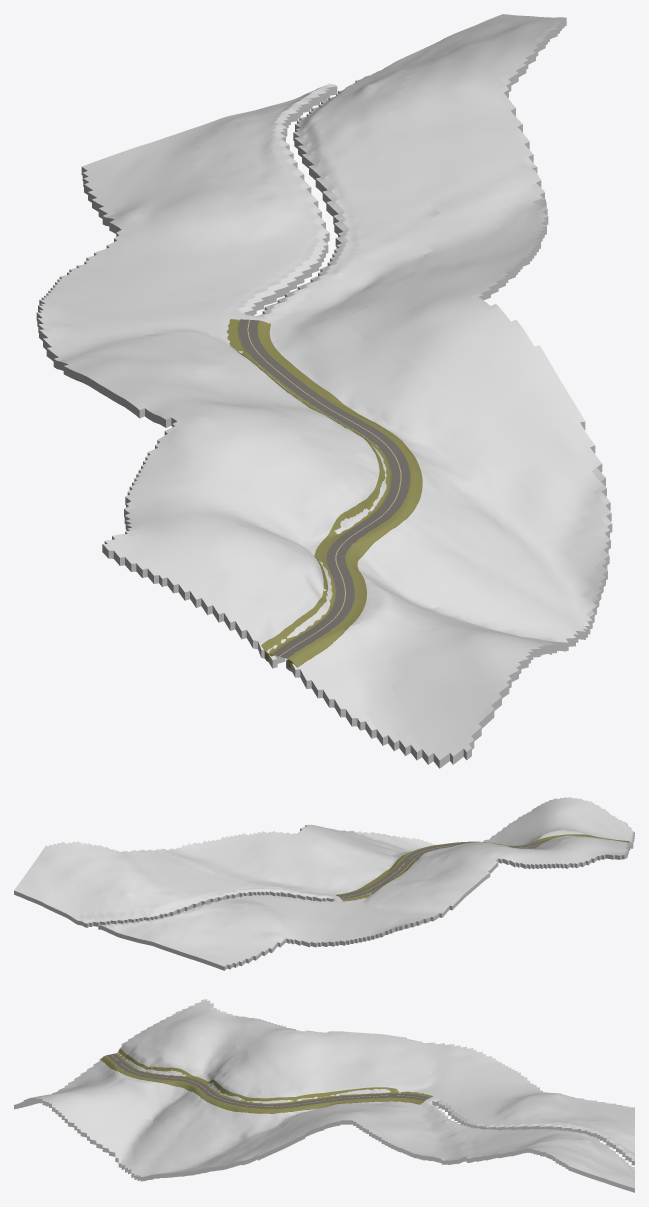
File: conz_191.glb
3 views of the same model, one above another, from view 1: azimuth 30°, elevation 25°; view 2: azimuth 150°, elevation 25°; view 3: azimuth 270°, elevation 25° (orthographic). The views are drawn at different scales.
Visible parts, largest first — view 1: terrain191, road191, verge191R, verge191L; view 2: terrain191, road191, verge191R; view 3: terrain191, road191, verge191R, verge191L.
Part boxes in pixels (<box>): terrain191: <box>36,14,612,768</box>; road191: <box>238,319,410,658</box>; verge191R: <box>257,320,422,668</box>; verge191L: <box>226,319,391,661</box>; terrain191: <box>14,797,634,970</box>; road191: <box>338,837,628,899</box>; verge191R: <box>336,834,629,895</box>; terrain191: <box>14,999,634,1192</box>; road191: <box>106,1053,429,1108</box>; verge191R: <box>100,1055,424,1113</box>; verge191L: <box>115,1049,432,1104</box>.
Bounding box in the file's own units: 308 × 81.14 × 392.
